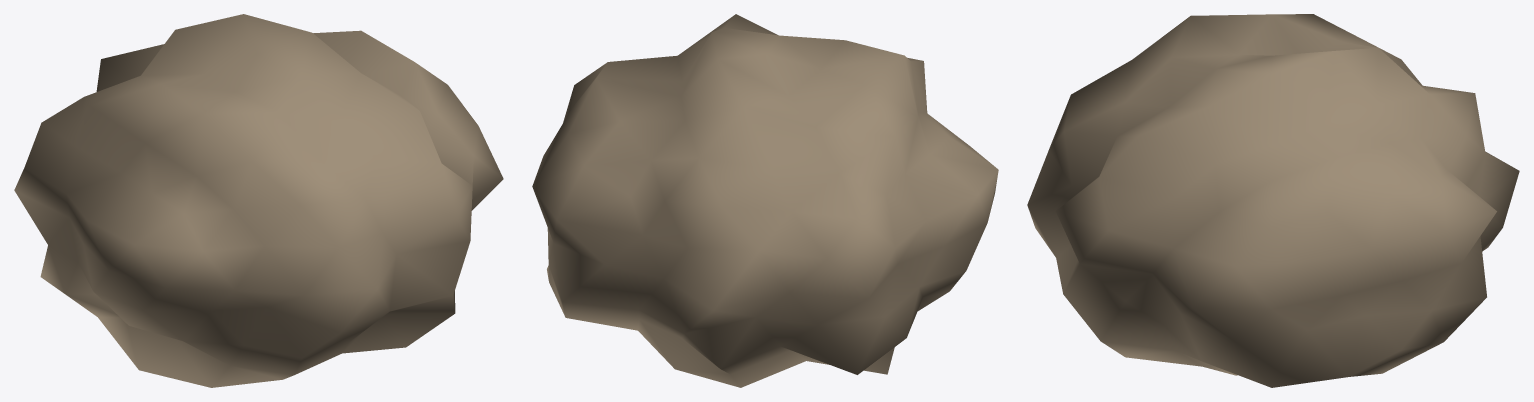
The model's file is sandstone.glb.
3 renders of one model, left to right at view 1: azimuth 30°, elevation 25°; view 2: azimuth 150°, elevation 25°; view 3: azimuth 270°, elevation 25°, orthographic.
Visible parts, largest first — view 1: Weathered sandstone; view 2: Weathered sandstone; view 3: Weathered sandstone.
Boxes of the visible parts, x1,y1,x2,y2 form: Weathered sandstone: (14, 14, 503, 387); Weathered sandstone: (532, 14, 998, 387); Weathered sandstone: (1027, 14, 1519, 387).
Size of the model in its own units: 2.08 by 1.53 by 2.18.
